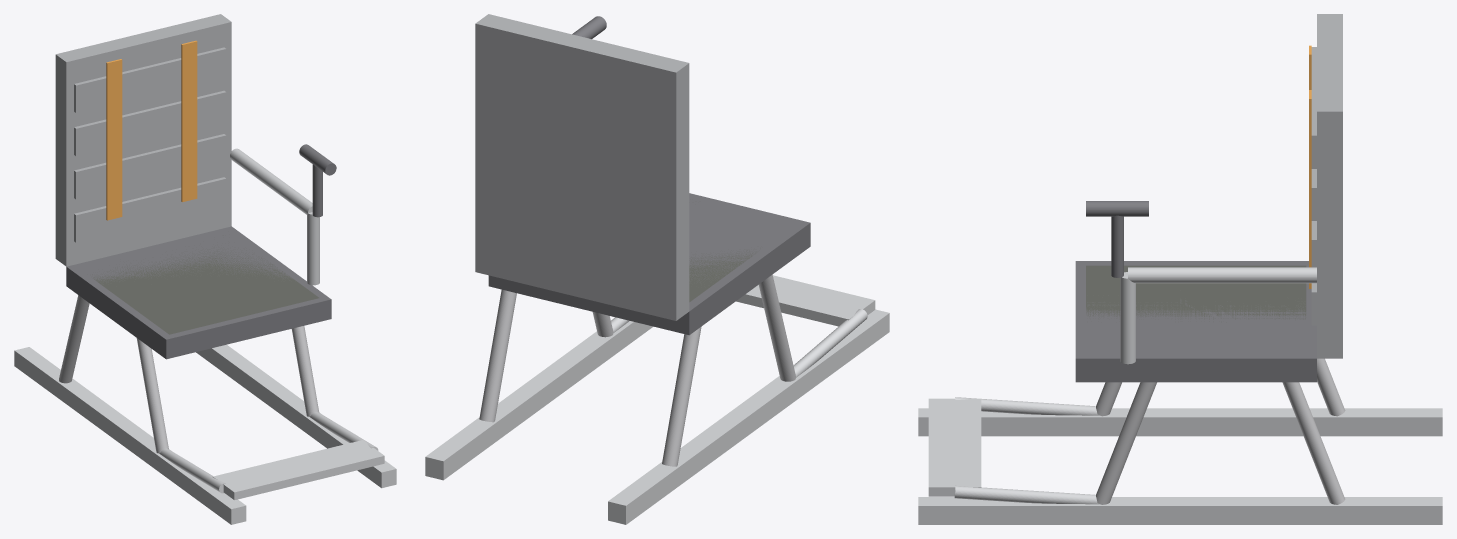
Rendered from rover22_crew_seat.glb.
The picture shows the model from 3 angles, left to right: view 1: azimuth 30°, elevation 25°; view 2: azimuth 150°, elevation 25°; view 3: azimuth 270°, elevation 25°; orthographic projection. The views are drawn at different scales.
Visible parts, largest first — view 1: seat_back, seat_pan, seat_cushion, base_rails, footrest, seat_back_belts, legs, armrest, hand_controller; view 2: seat_back, base_rails, seat_pan, legs, footrest, seat_cushion; view 3: base_rails, seat_pan, seat_back, footrest, seat_cushion, legs, armrest, hand_controller, seat_back_belts.
Boxes of the visible parts, x1,y1,x2,y2 form: seat_back: [55, 14, 231, 266]; seat_pan: [66, 226, 331, 359]; seat_cushion: [92, 235, 318, 334]; base_rails: [14, 344, 396, 524]; footrest: [159, 411, 384, 500]; seat_back_belts: [106, 40, 197, 220]; legs: [59, 295, 319, 453]; armrest: [230, 148, 319, 285]; hand_controller: [299, 144, 336, 217]; seat_back: [475, 14, 689, 320]; base_rails: [425, 309, 889, 524]; seat_pan: [488, 193, 810, 335]; legs: [479, 274, 795, 466]; footrest: [611, 275, 875, 377]; seat_cushion: [689, 248, 760, 302]; base_rails: [918, 408, 1442, 524]; seat_pan: [1075, 261, 1316, 382]; seat_back: [1311, 14, 1342, 358]; footrest: [928, 397, 1099, 504]; seat_cushion: [1086, 265, 1306, 322]; legs: [1096, 358, 1345, 504]; armrest: [1120, 267, 1316, 364]; hand_controller: [1086, 201, 1148, 277]; seat_back_belts: [1309, 45, 1311, 288].
Size of the model in its own units: 0.465 by 0.87 by 1.
